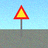sign: (13, 5, 29, 37)
